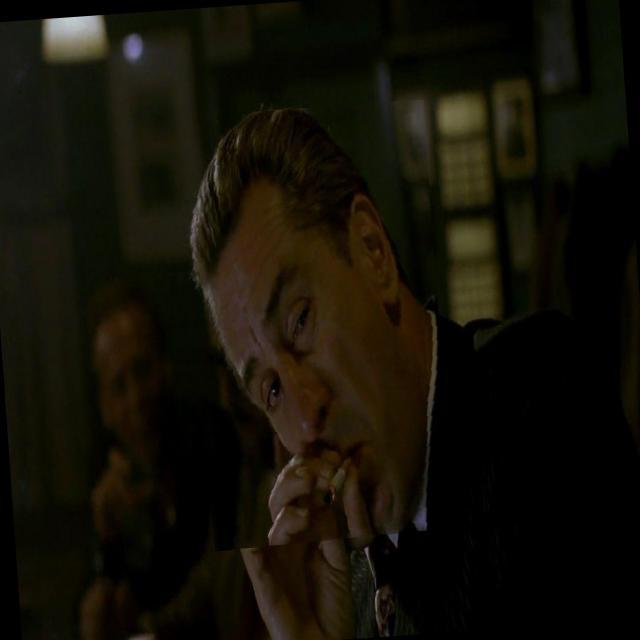cigarette: (289, 448, 349, 534)
